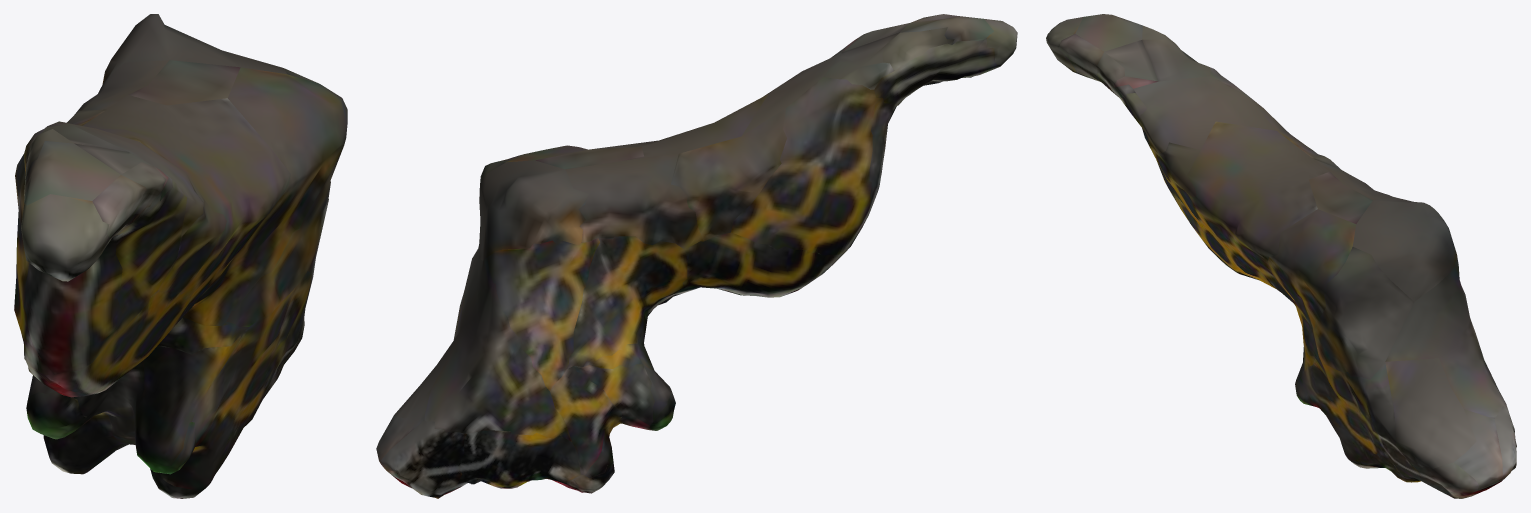
File: hall.glb
The picture shows the model from 3 angles, left to right: view 1: azimuth 30°, elevation 25°; view 2: azimuth 150°, elevation 25°; view 3: azimuth 270°, elevation 25°; orthographic projection. The views are drawn at different scales.
Size of the model in its own units: 0.8379 by 0.7996 by 0.9793.
1 material, 1 textured.
